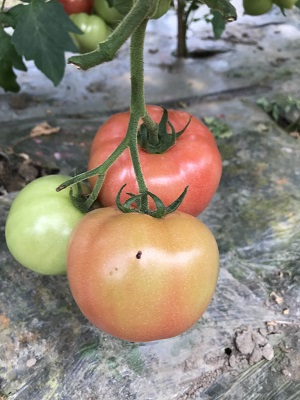immature-tomato: (4, 173, 96, 272)
mature-tomato: (92, 106, 223, 216)
semi-mature-tomato: (71, 206, 220, 342)
